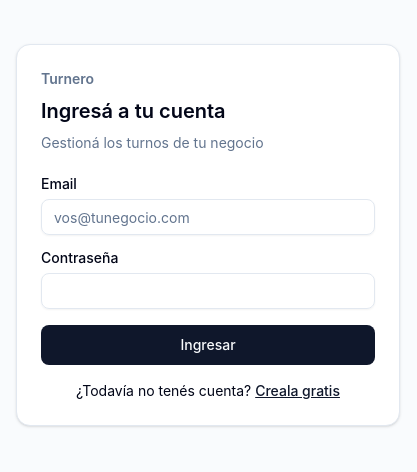
Test case: auth flow › shows validation messages in Spanish
This screenshot has width=417, height=472.
Click the button "Ingresar": (208, 345) [41,325,375,365]
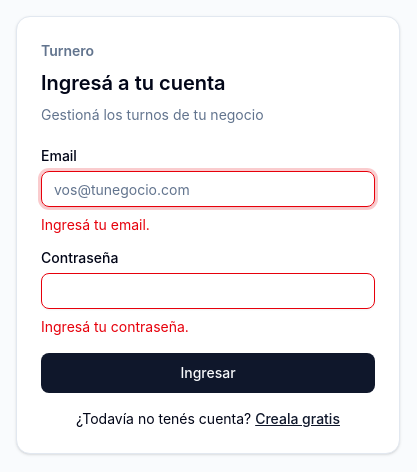
Expected: the text "Ingresá tu email." is shown, [41,216,150,233]
Expected: the text "Ingresá tu contraseña." is shown, [41,318,189,335]
